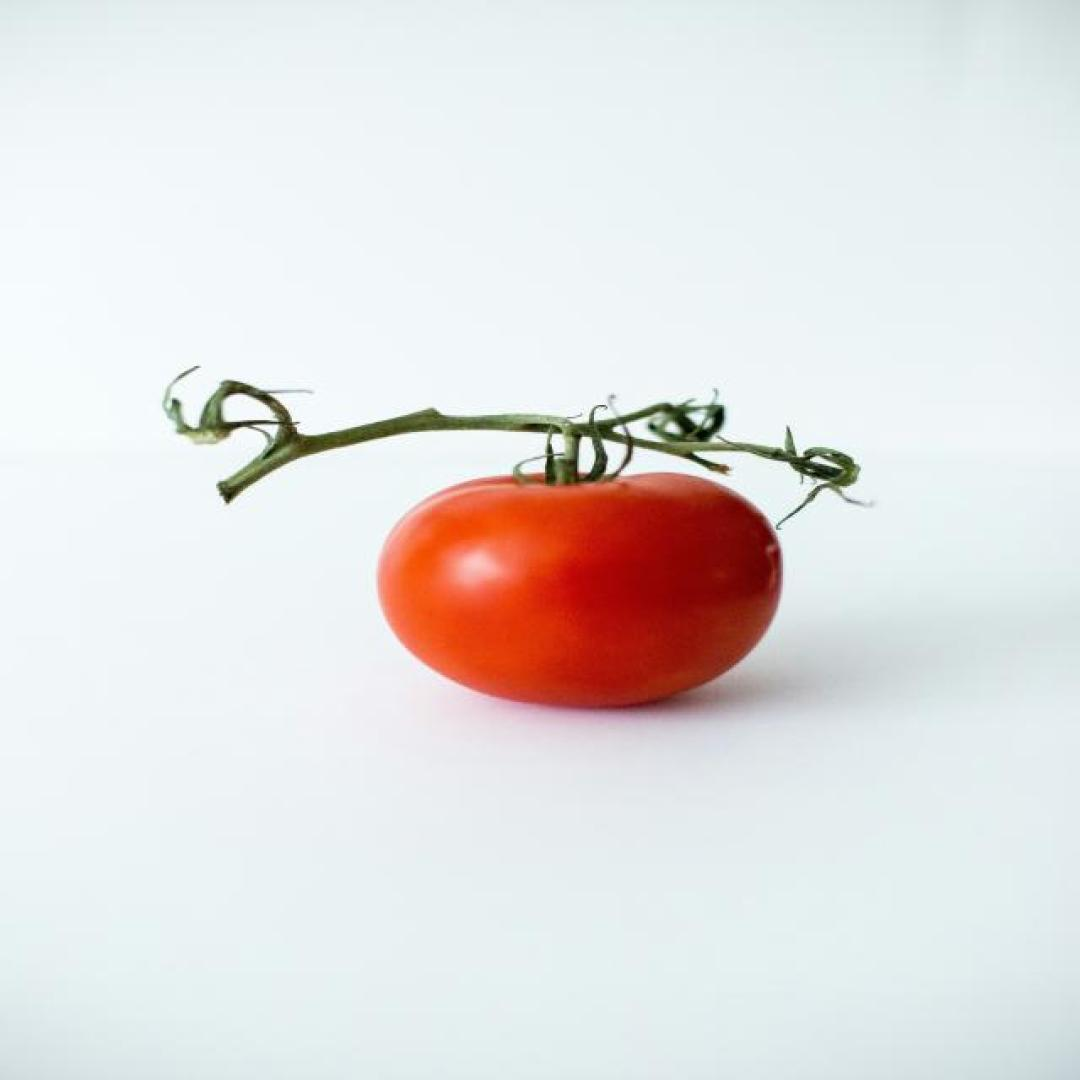matang: (373, 466, 786, 710)
